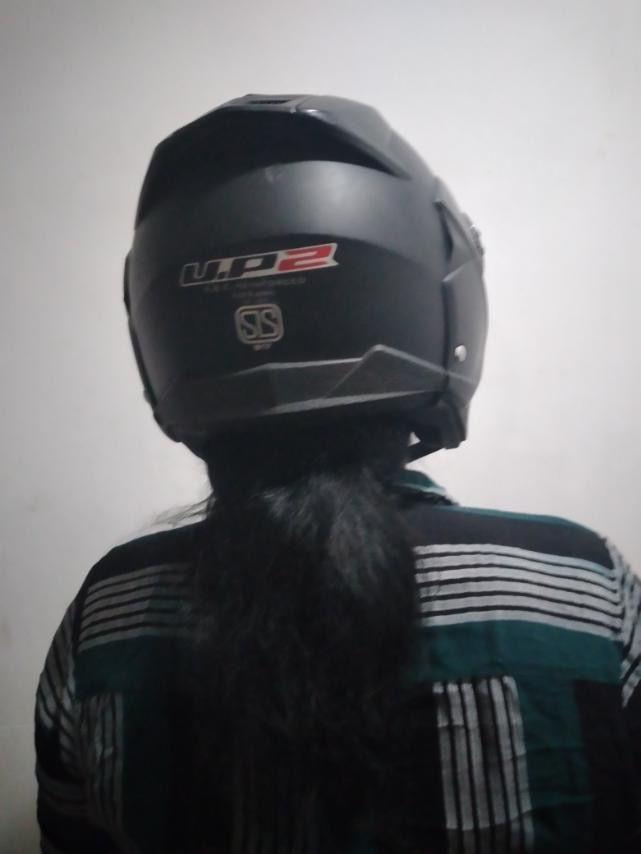helmet: (119, 92, 489, 458)
